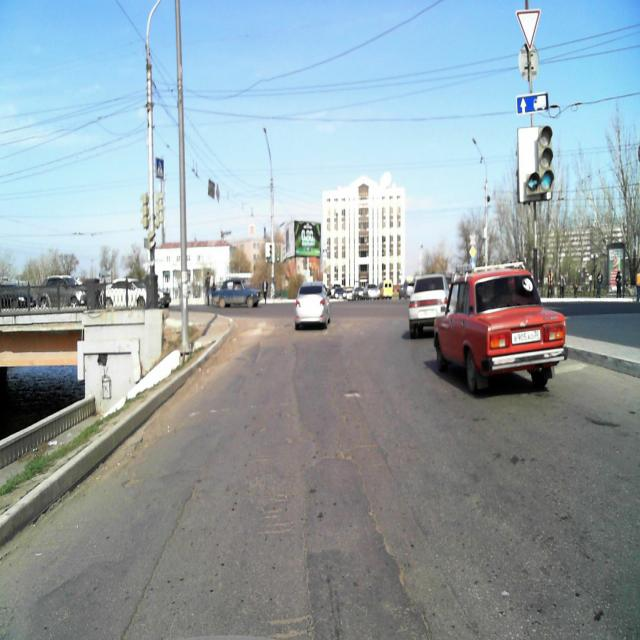road sign: (515, 8, 542, 51), (517, 90, 549, 115), (155, 156, 165, 179)
